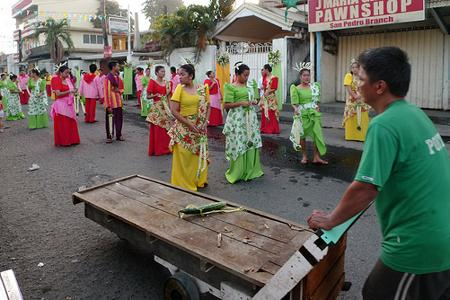person: (309, 46, 447, 300)
